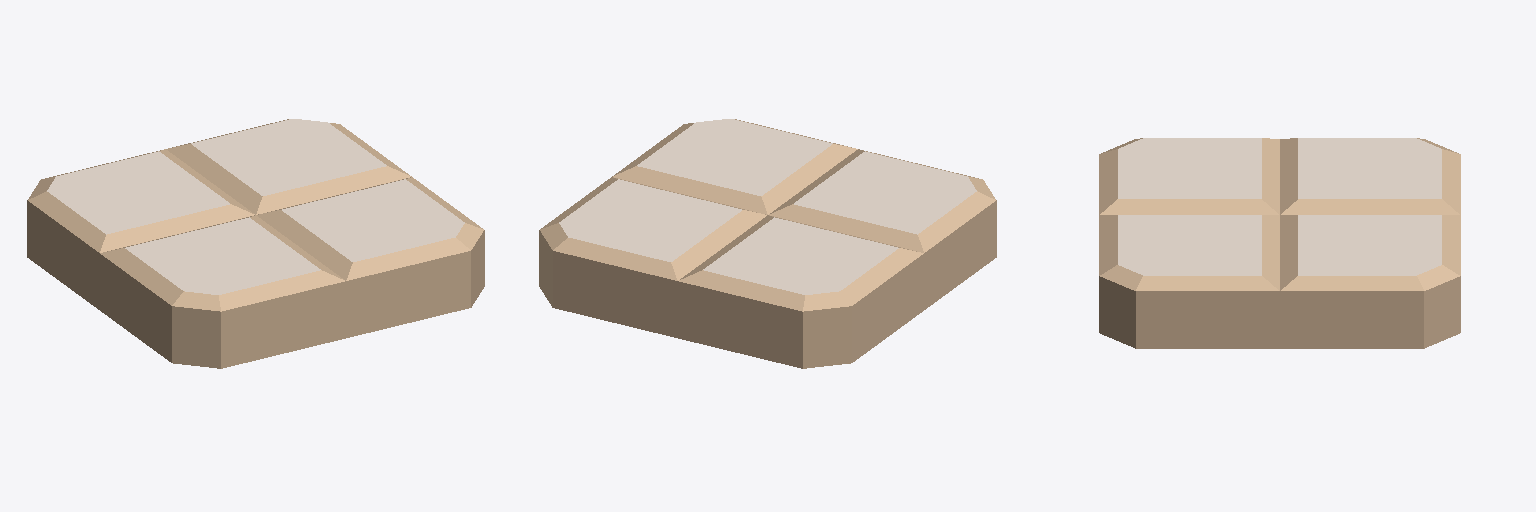
File: Puzzle_Sliding_Platform_1x1.obj
3 views of the same model, side by side, from view 1: azimuth 30°, elevation 25°; view 2: azimuth 150°, elevation 25°; view 3: azimuth 270°, elevation 25° (orthographic).
Parts seen in each view (by area): view 1: object1; view 2: object1; view 3: object1.
Boxes of the visible parts, x1=… form: object1: x1=27, y1=119, x2=484, y2=368; object1: x1=539, y1=119, x2=996, y2=368; object1: x1=1099, y1=138, x2=1460, y2=348.
Size of the model in its own units: 1 by 0.3 by 1.